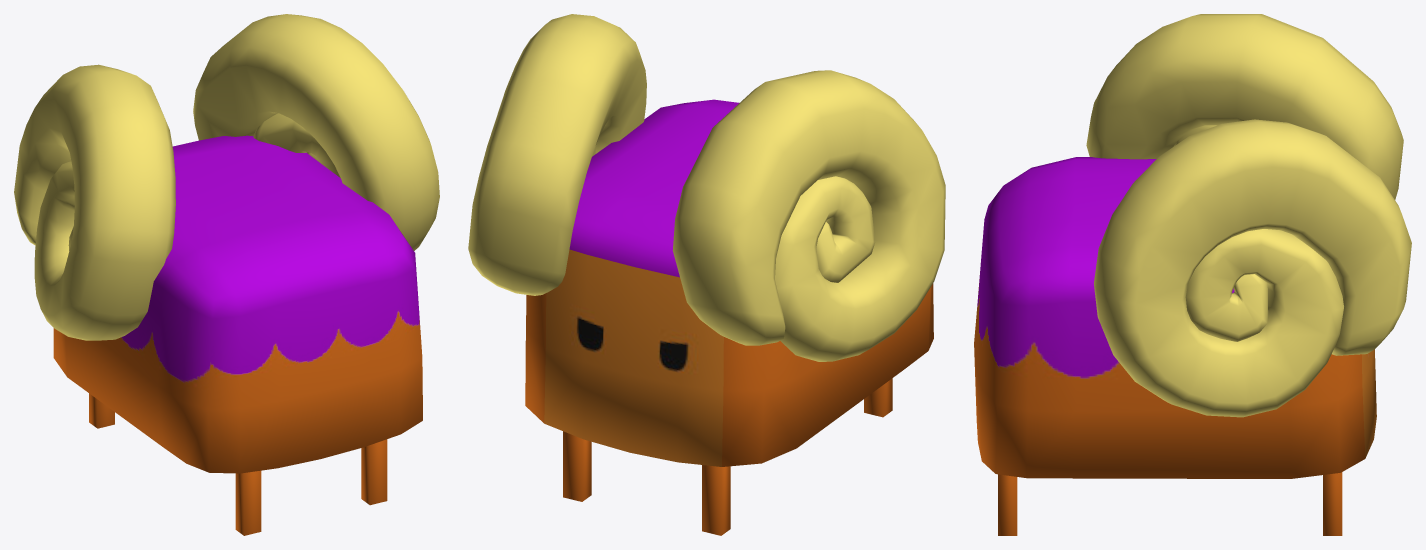
The model's file is EnemyNatureAriesLow.fbx.
3 views of the same model, side by side, from view 1: azimuth 30°, elevation 25°; view 2: azimuth 150°, elevation 25°; view 3: azimuth 270°, elevation 25° (orthographic). The views are drawn at different scales.
Visible parts, largest first — view 1: Aries12; view 2: Aries12; view 3: Aries12.
Boxes of the visible parts, x1,y1,x2,y2 form: Aries12: [14, 14, 439, 535]; Aries12: [468, 14, 945, 535]; Aries12: [974, 14, 1411, 535].
Bounding box in the file's own units: 5.65 × 5.64 × 5.25.
